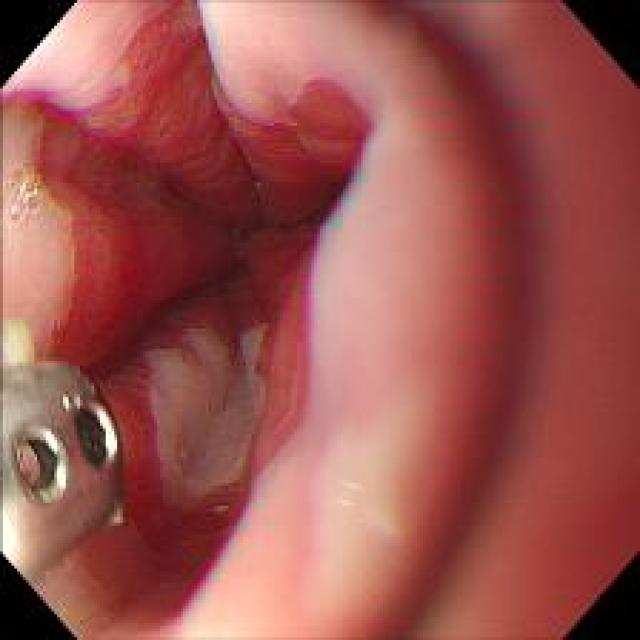blur: (278, 2, 638, 636), (155, 495, 279, 639)
bubbles: (2, 168, 45, 228)
color misalignment: (159, 540, 230, 626), (294, 231, 320, 438), (340, 124, 381, 210), (4, 164, 45, 225), (210, 494, 255, 538), (8, 446, 40, 500), (226, 221, 251, 268), (315, 200, 344, 239), (250, 169, 274, 211), (70, 506, 85, 528)
instrument: (1, 354, 128, 582)
